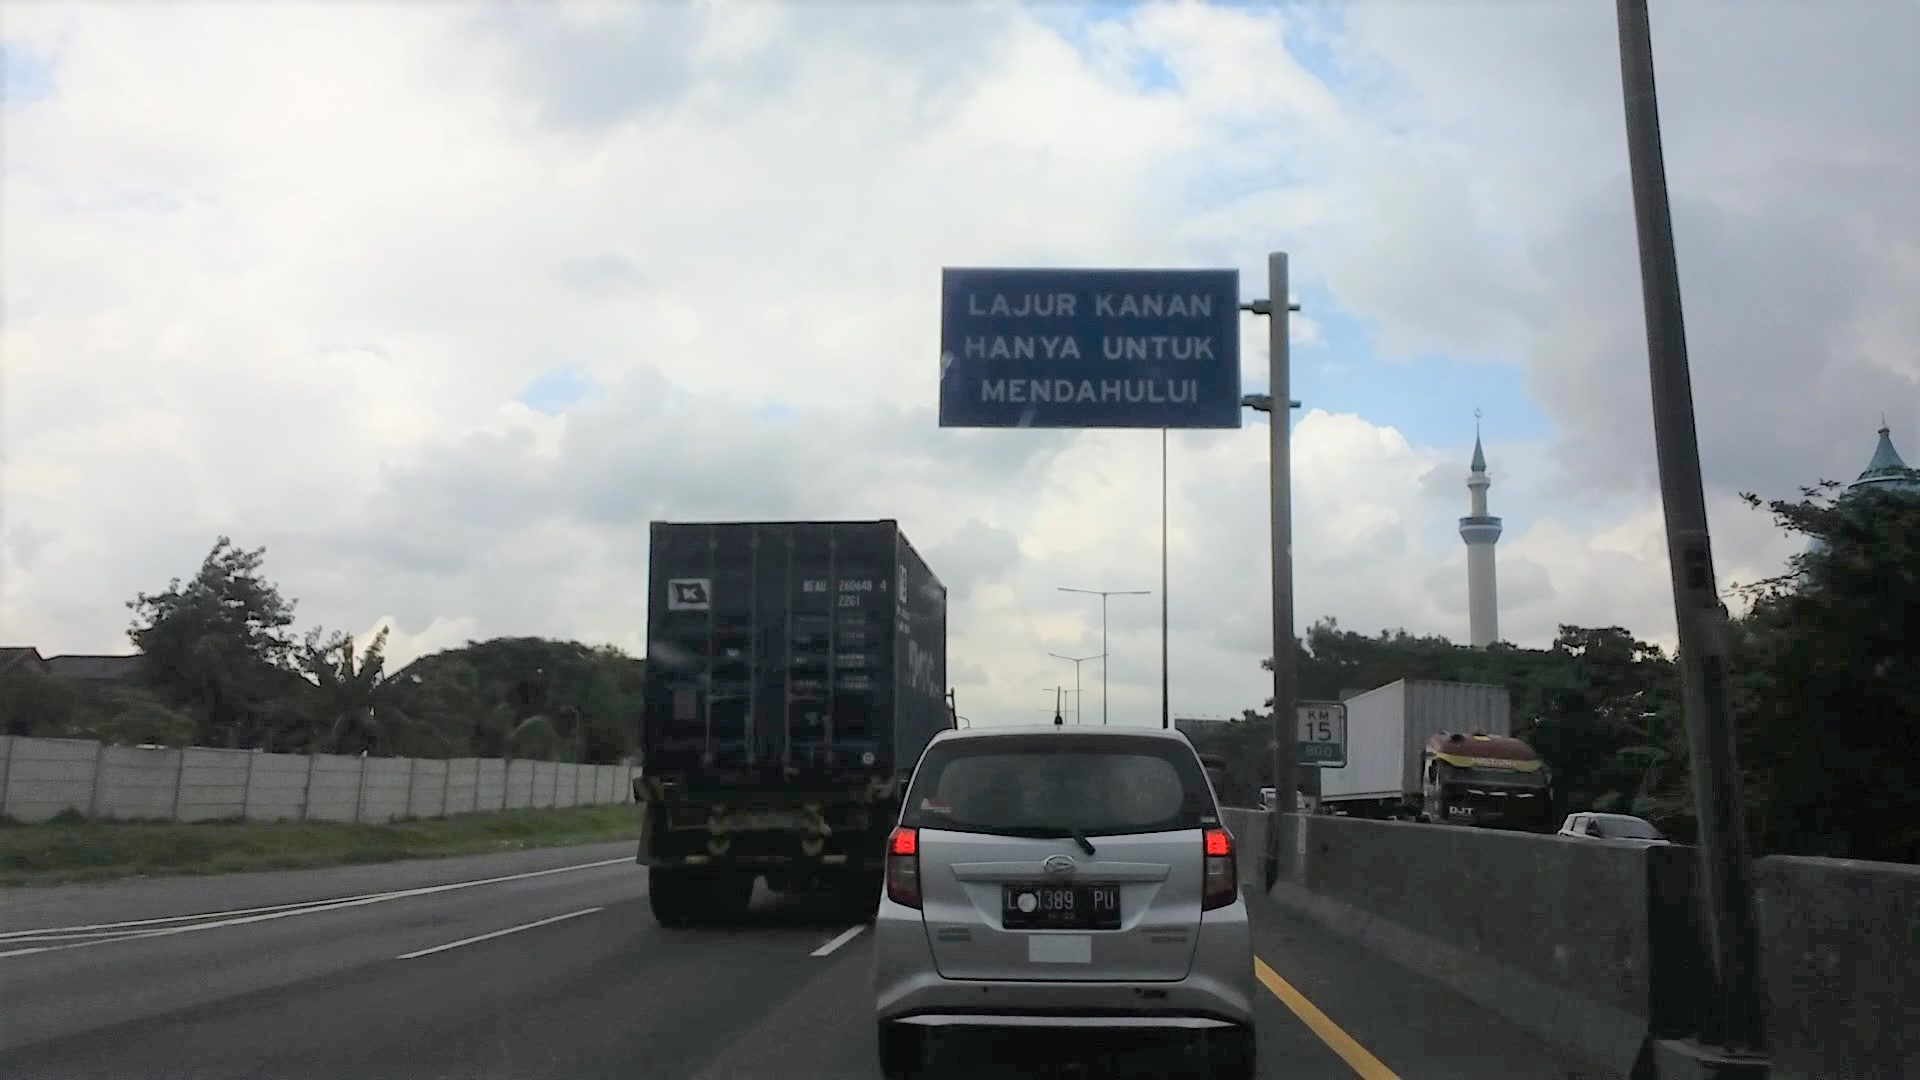plate_positive: (1001, 881, 1124, 930)
